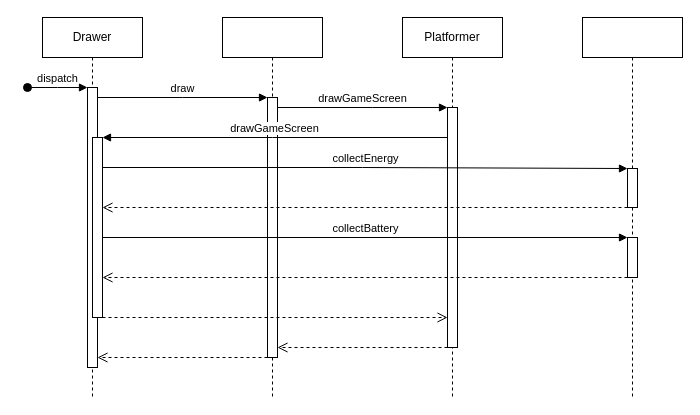
Some shapes in this 700 by 415 pixel diagram are drawn without their labels. Here are the shapes that lost their labels. From the top down, the box of each, then its label:
(222, 16, 322, 398): GameScreen
(582, 16, 682, 398): GameLogic
